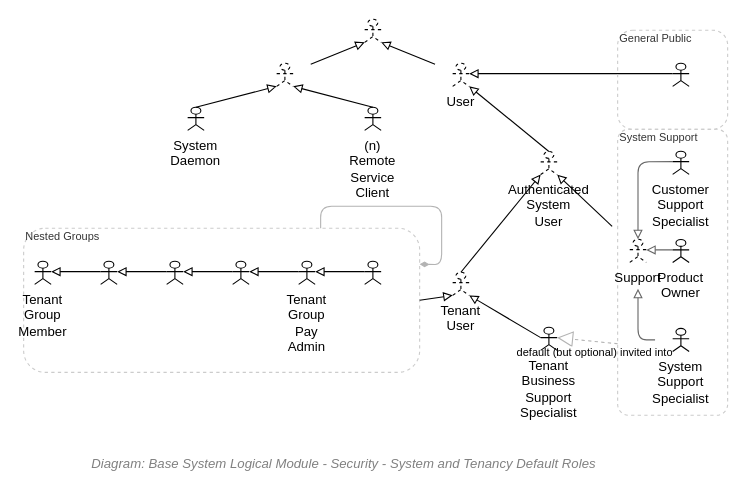
Some shapes in this 747 by 494 pixel diagram are drawn without their labels. The shapes that lost their labels are listed below. From the top down, each one's centre as x and y in pixels, then its label:
the point at 372,30: Security Principal
the point at 284,74: Service
the point at 680,74: Anonymous User
the point at 108,272: Tenant Group Contact Person
the point at 174,272: Tenant Group Member Admin
the point at 240,272: Tenant Group Member Action Admin
the point at 372,272: Tenant Group Accountable (Owner)
